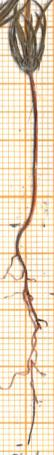flower: (4, 0, 54, 77)
root: (0, 225, 52, 444)
stem: (15, 76, 42, 227)
